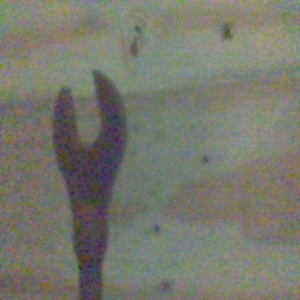spanner: (51, 69, 127, 300)
